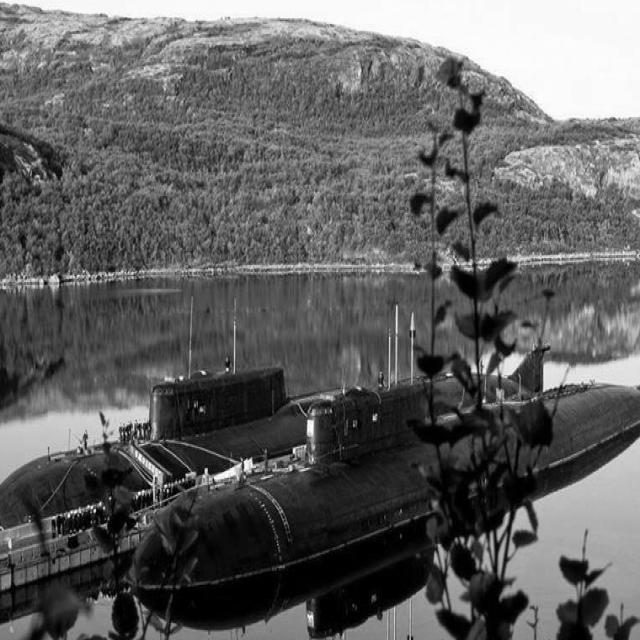submarine: (120, 346, 640, 614), (1, 272, 422, 547)
